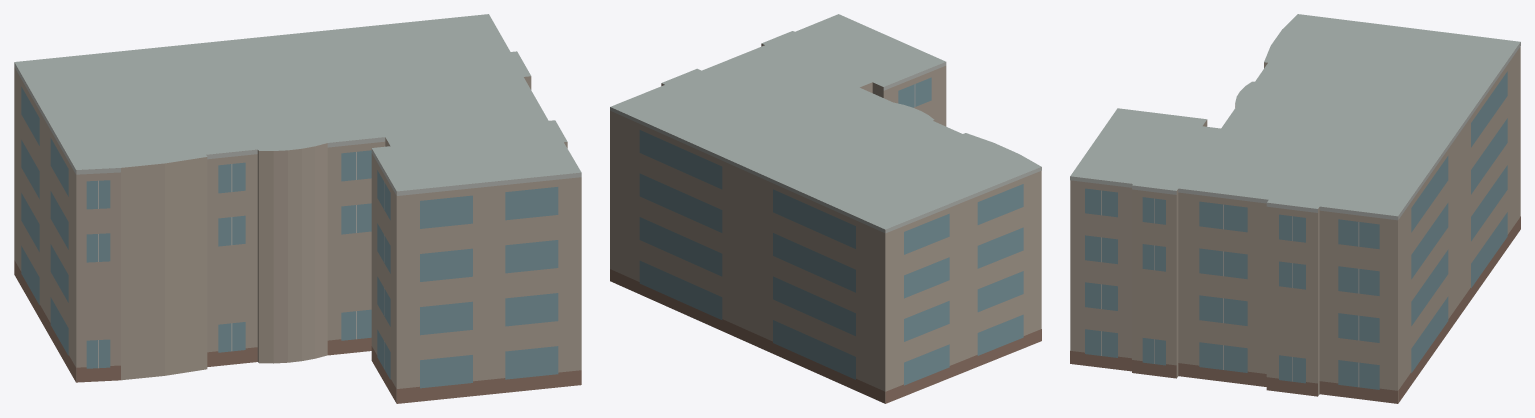
File: survey-upis-32967961.glb
The picture shows the model from 3 angles, left to right: view 1: azimuth 30°, elevation 25°; view 2: azimuth 150°, elevation 25°; view 3: azimuth 270°, elevation 25°; orthographic projection. The views are drawn at different scales.
Visible parts, largest first — view 1: survey-upis-32967961.tmp; view 2: survey-upis-32967961.tmp; view 3: survey-upis-32967961.tmp.
Part boxes in pixels (x1=…): survey-upis-32967961.tmp: x1=14, y1=14, x2=581, y2=403; survey-upis-32967961.tmp: x1=610, y1=14, x2=1041, y2=403; survey-upis-32967961.tmp: x1=1070, y1=14, x2=1520, y2=403.
Size of the model in its own units: 26.15 by 11.3 by 24.61.
